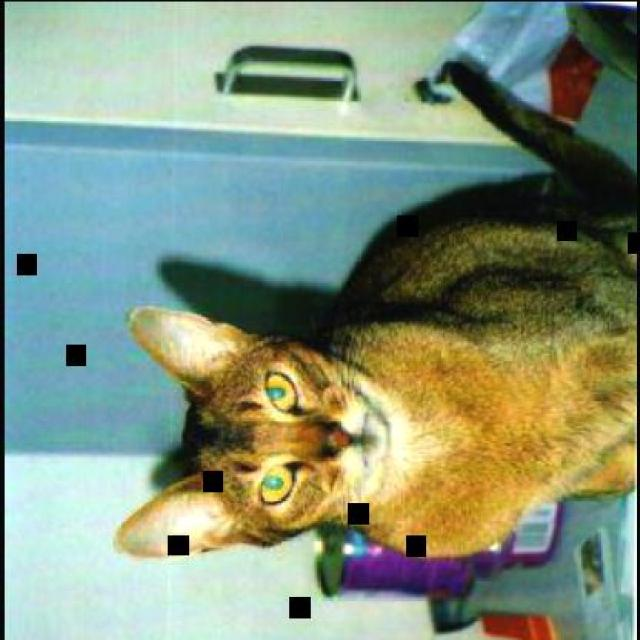unauthorized: (112, 54, 638, 561)
